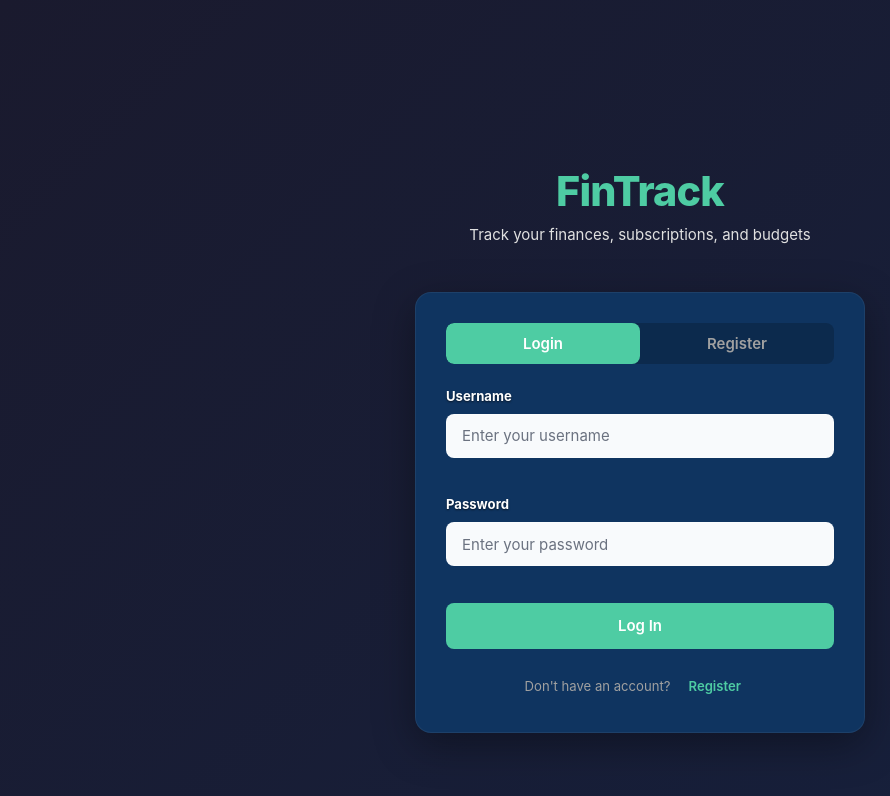
Test: Tab switching › clears error when switching tabs
In the field labelled "Username": (640, 436) [446, 414, 834, 458], type "alice"
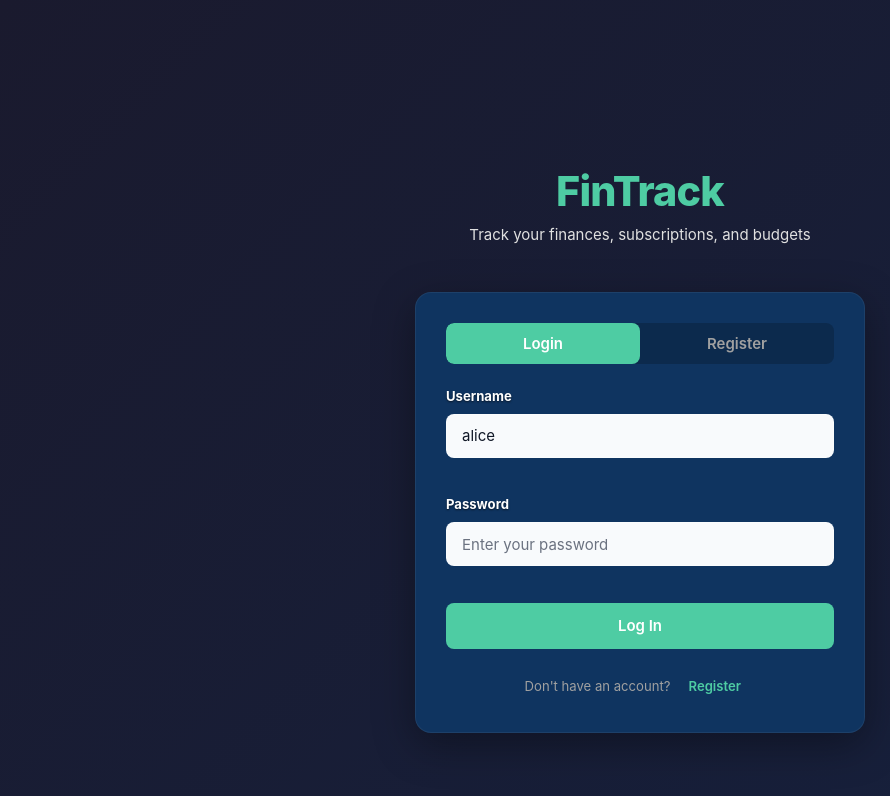
In the password field labelled "Password": (640, 544) [446, 522, 834, 566], type "wrong"
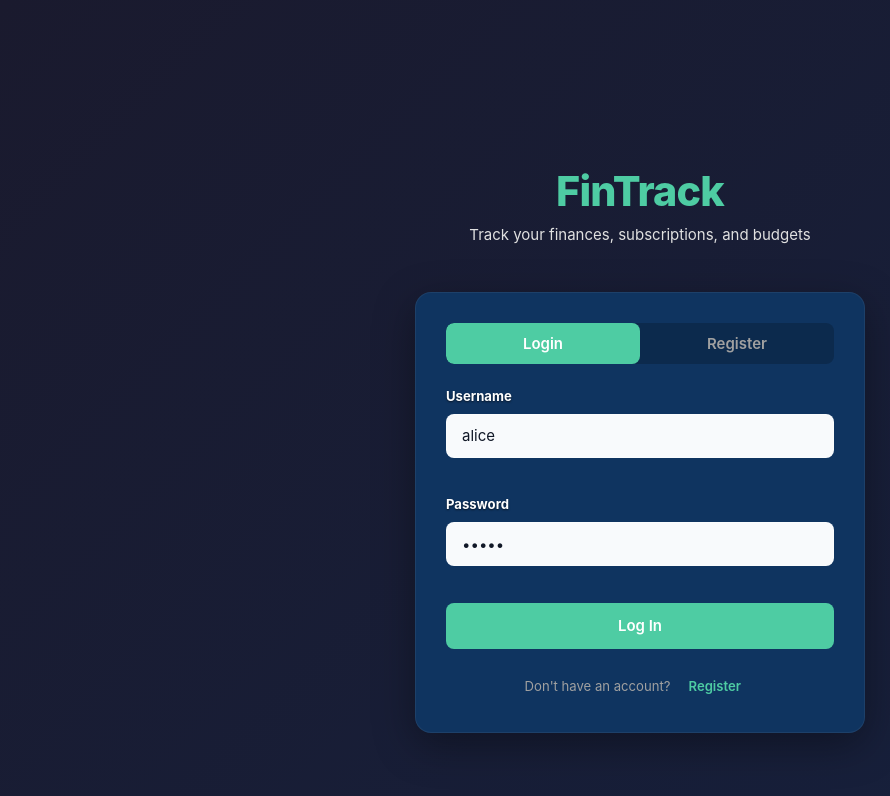
Submit the form from the button "Log In", box [446, 603, 834, 649]
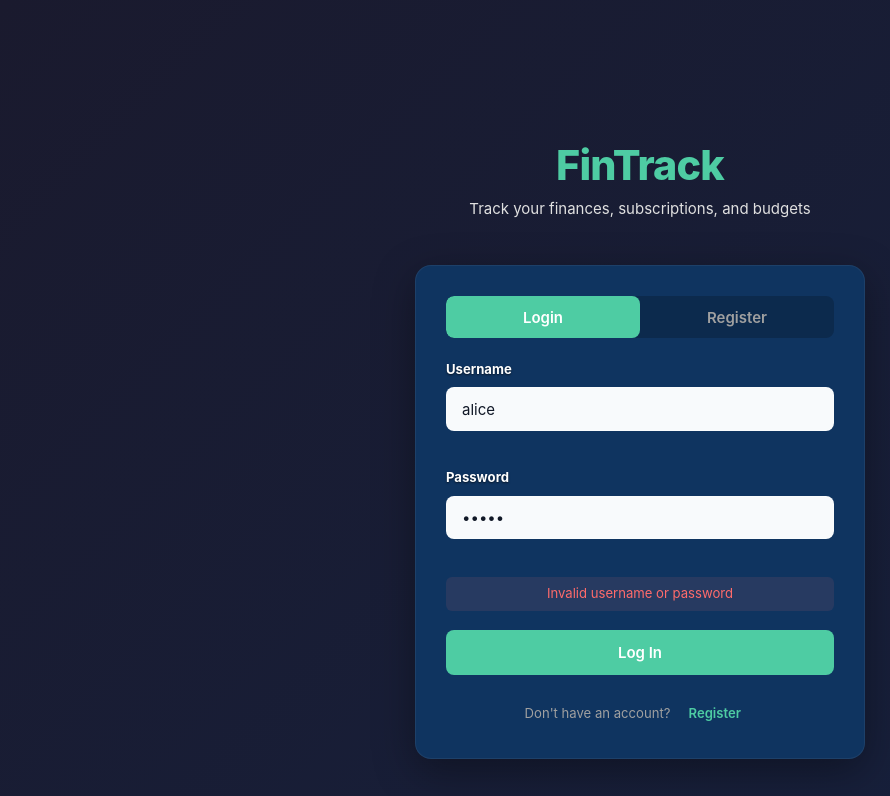
Check: the text "Invalid username or password" is shown, box [446, 577, 834, 611]
# Switch tab — error should clear
Click the 1st button "Register": (737, 317) [640, 296, 834, 338]
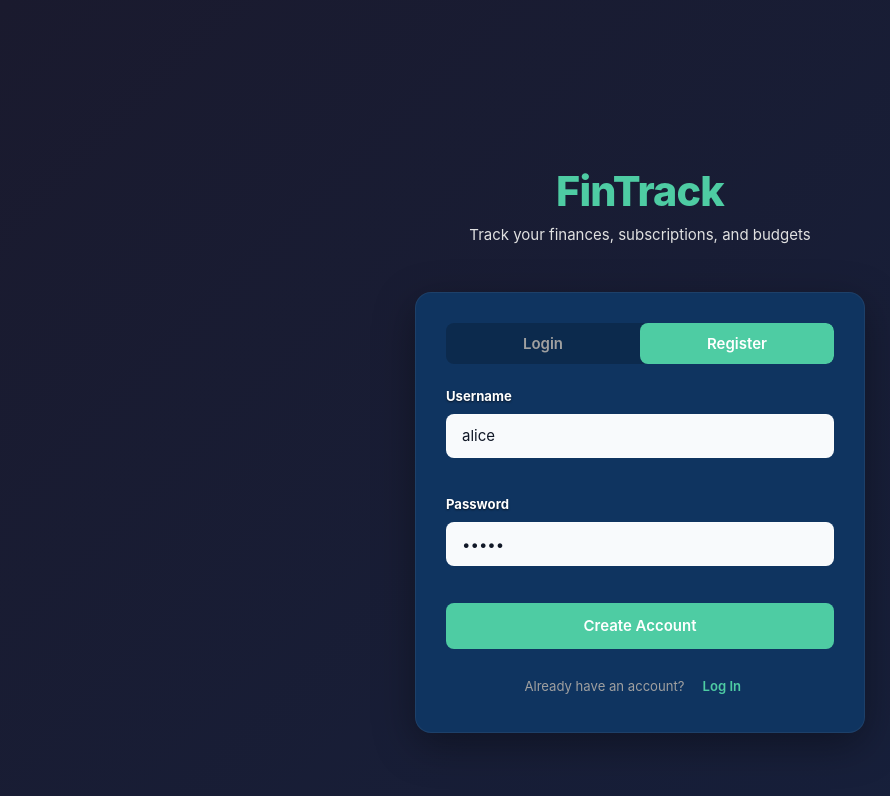
Check: the text "Invalid username or password" is gone
